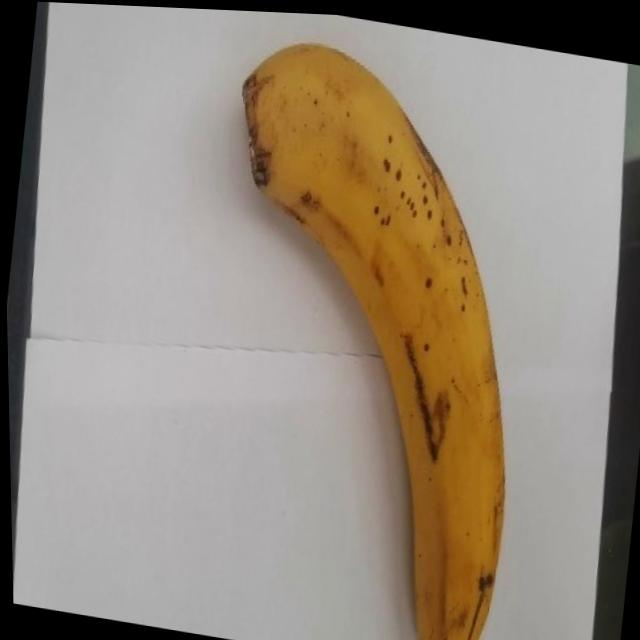Banana: (172, 28, 558, 640)
